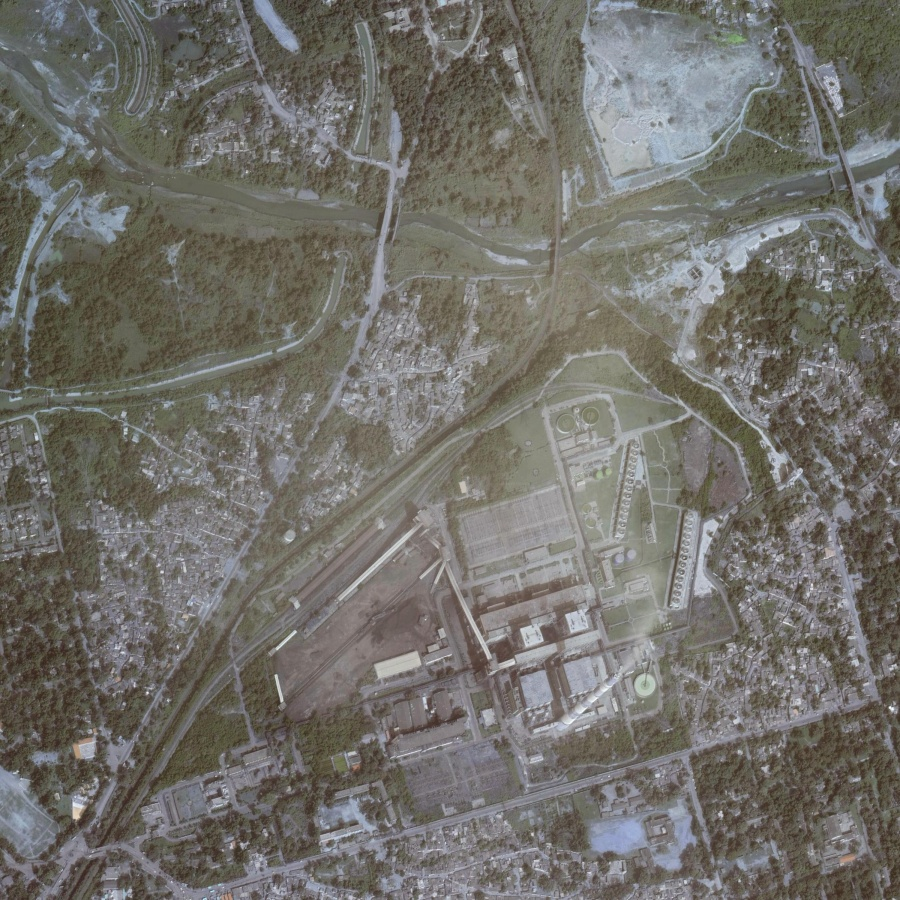PowerPlant: (271, 400, 713, 754)
